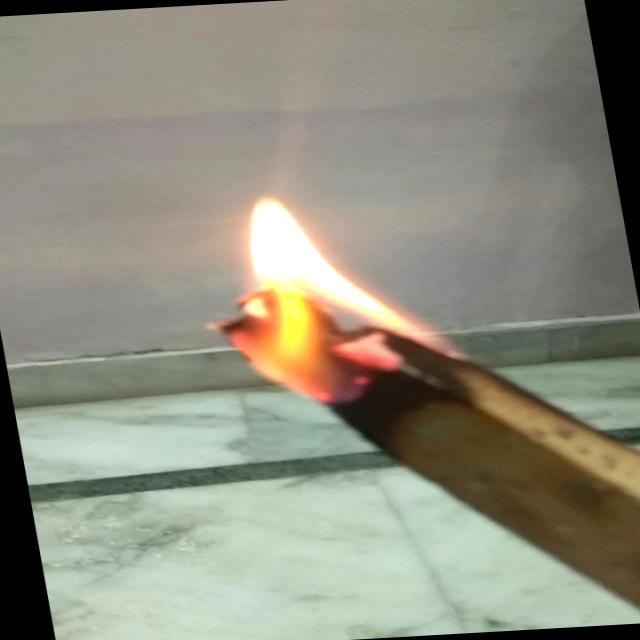fire: (191, 178, 394, 378)
